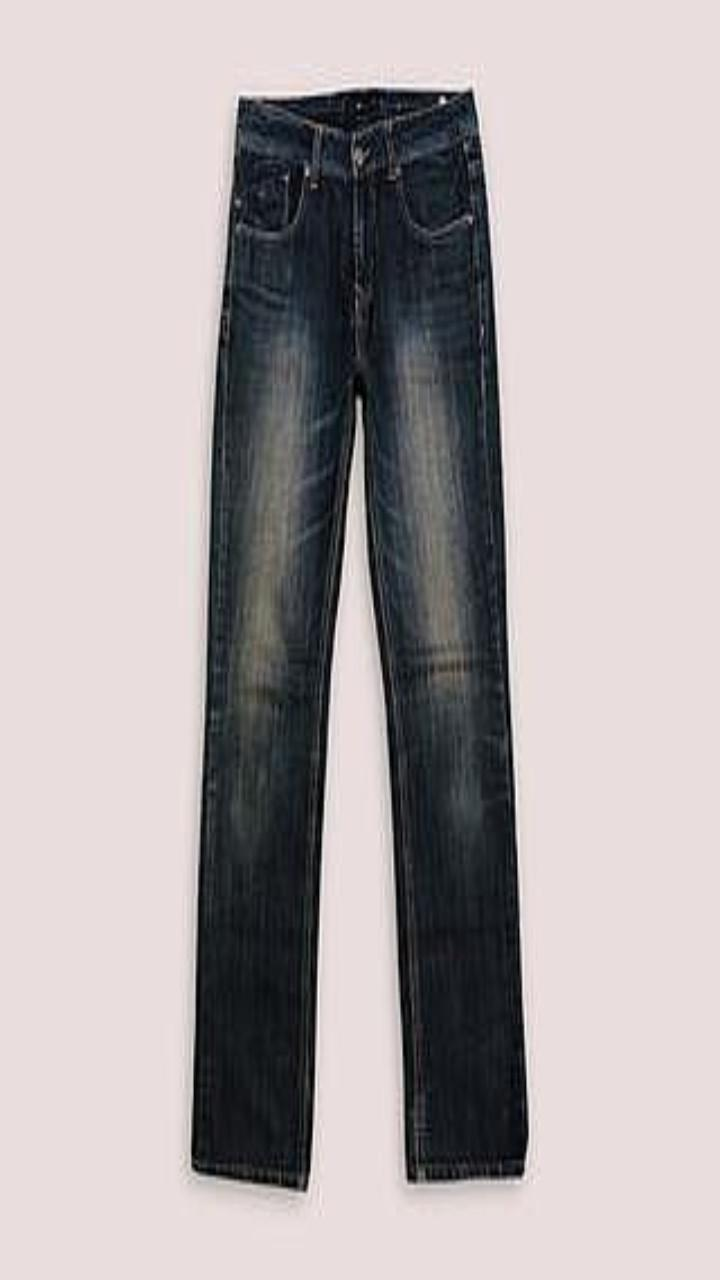Jeans: (191, 88, 527, 1188)
